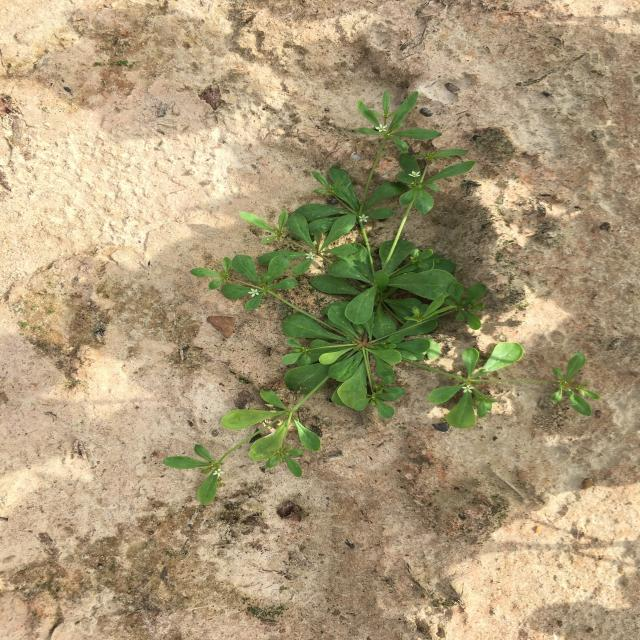Carpetweed: (163, 90, 600, 506)
